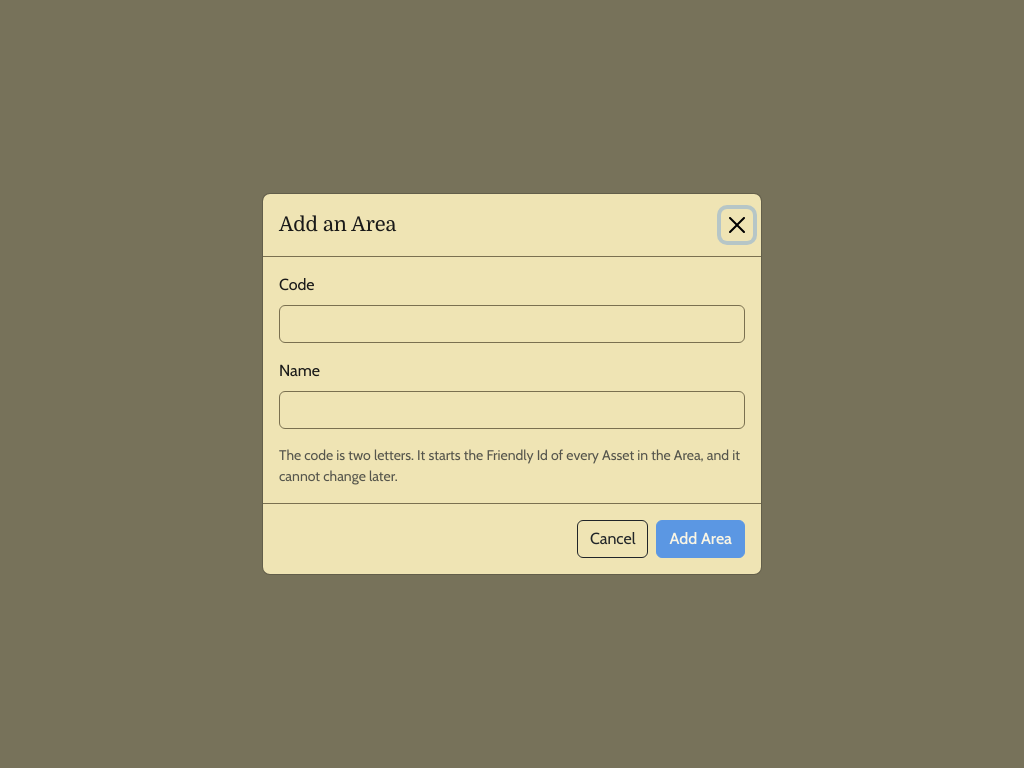
Test case: turns the code into capital letters and keeps only two letters
The width and height of the screenshot is (1024, 768).
Type "mn1x" into the field labelled "Code".
click(512, 324); type("mn1x")  # box [279,305,745,343]
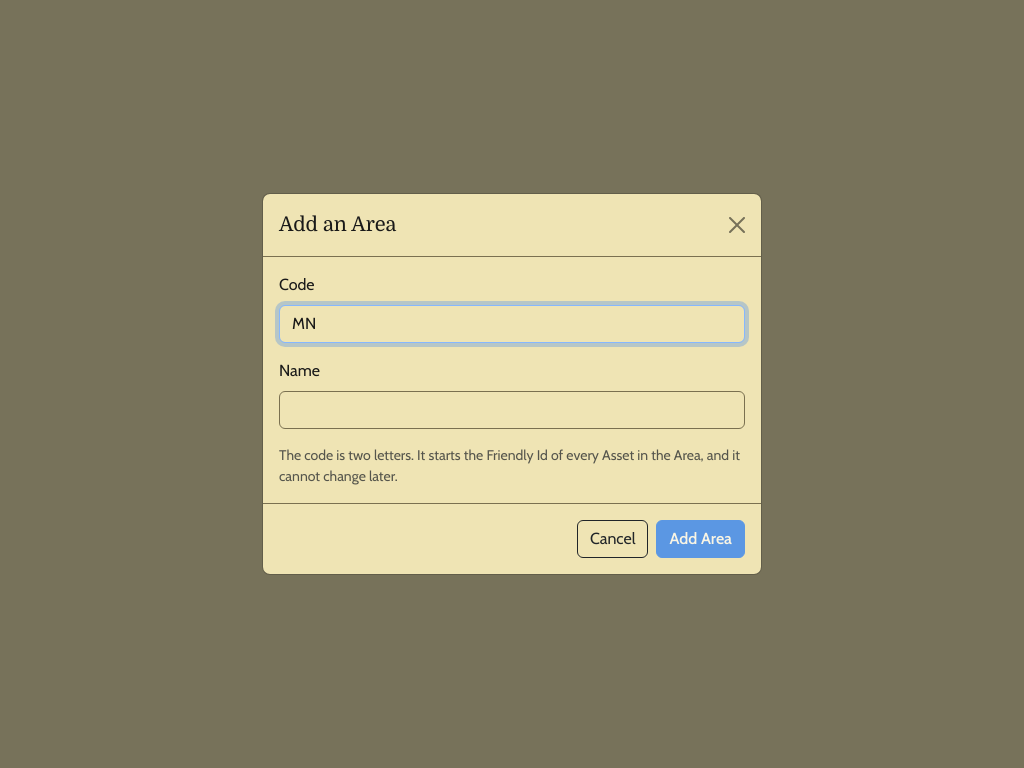
expect the field labelled "Code" holds "MN": met, box [279,305,745,343]
